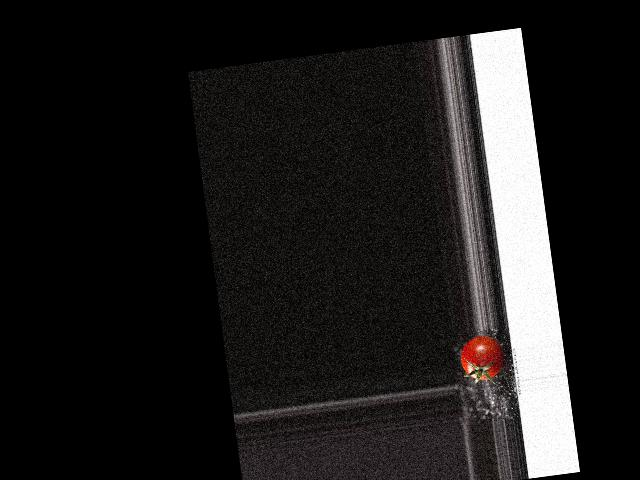tomato: (458, 333, 506, 382)
